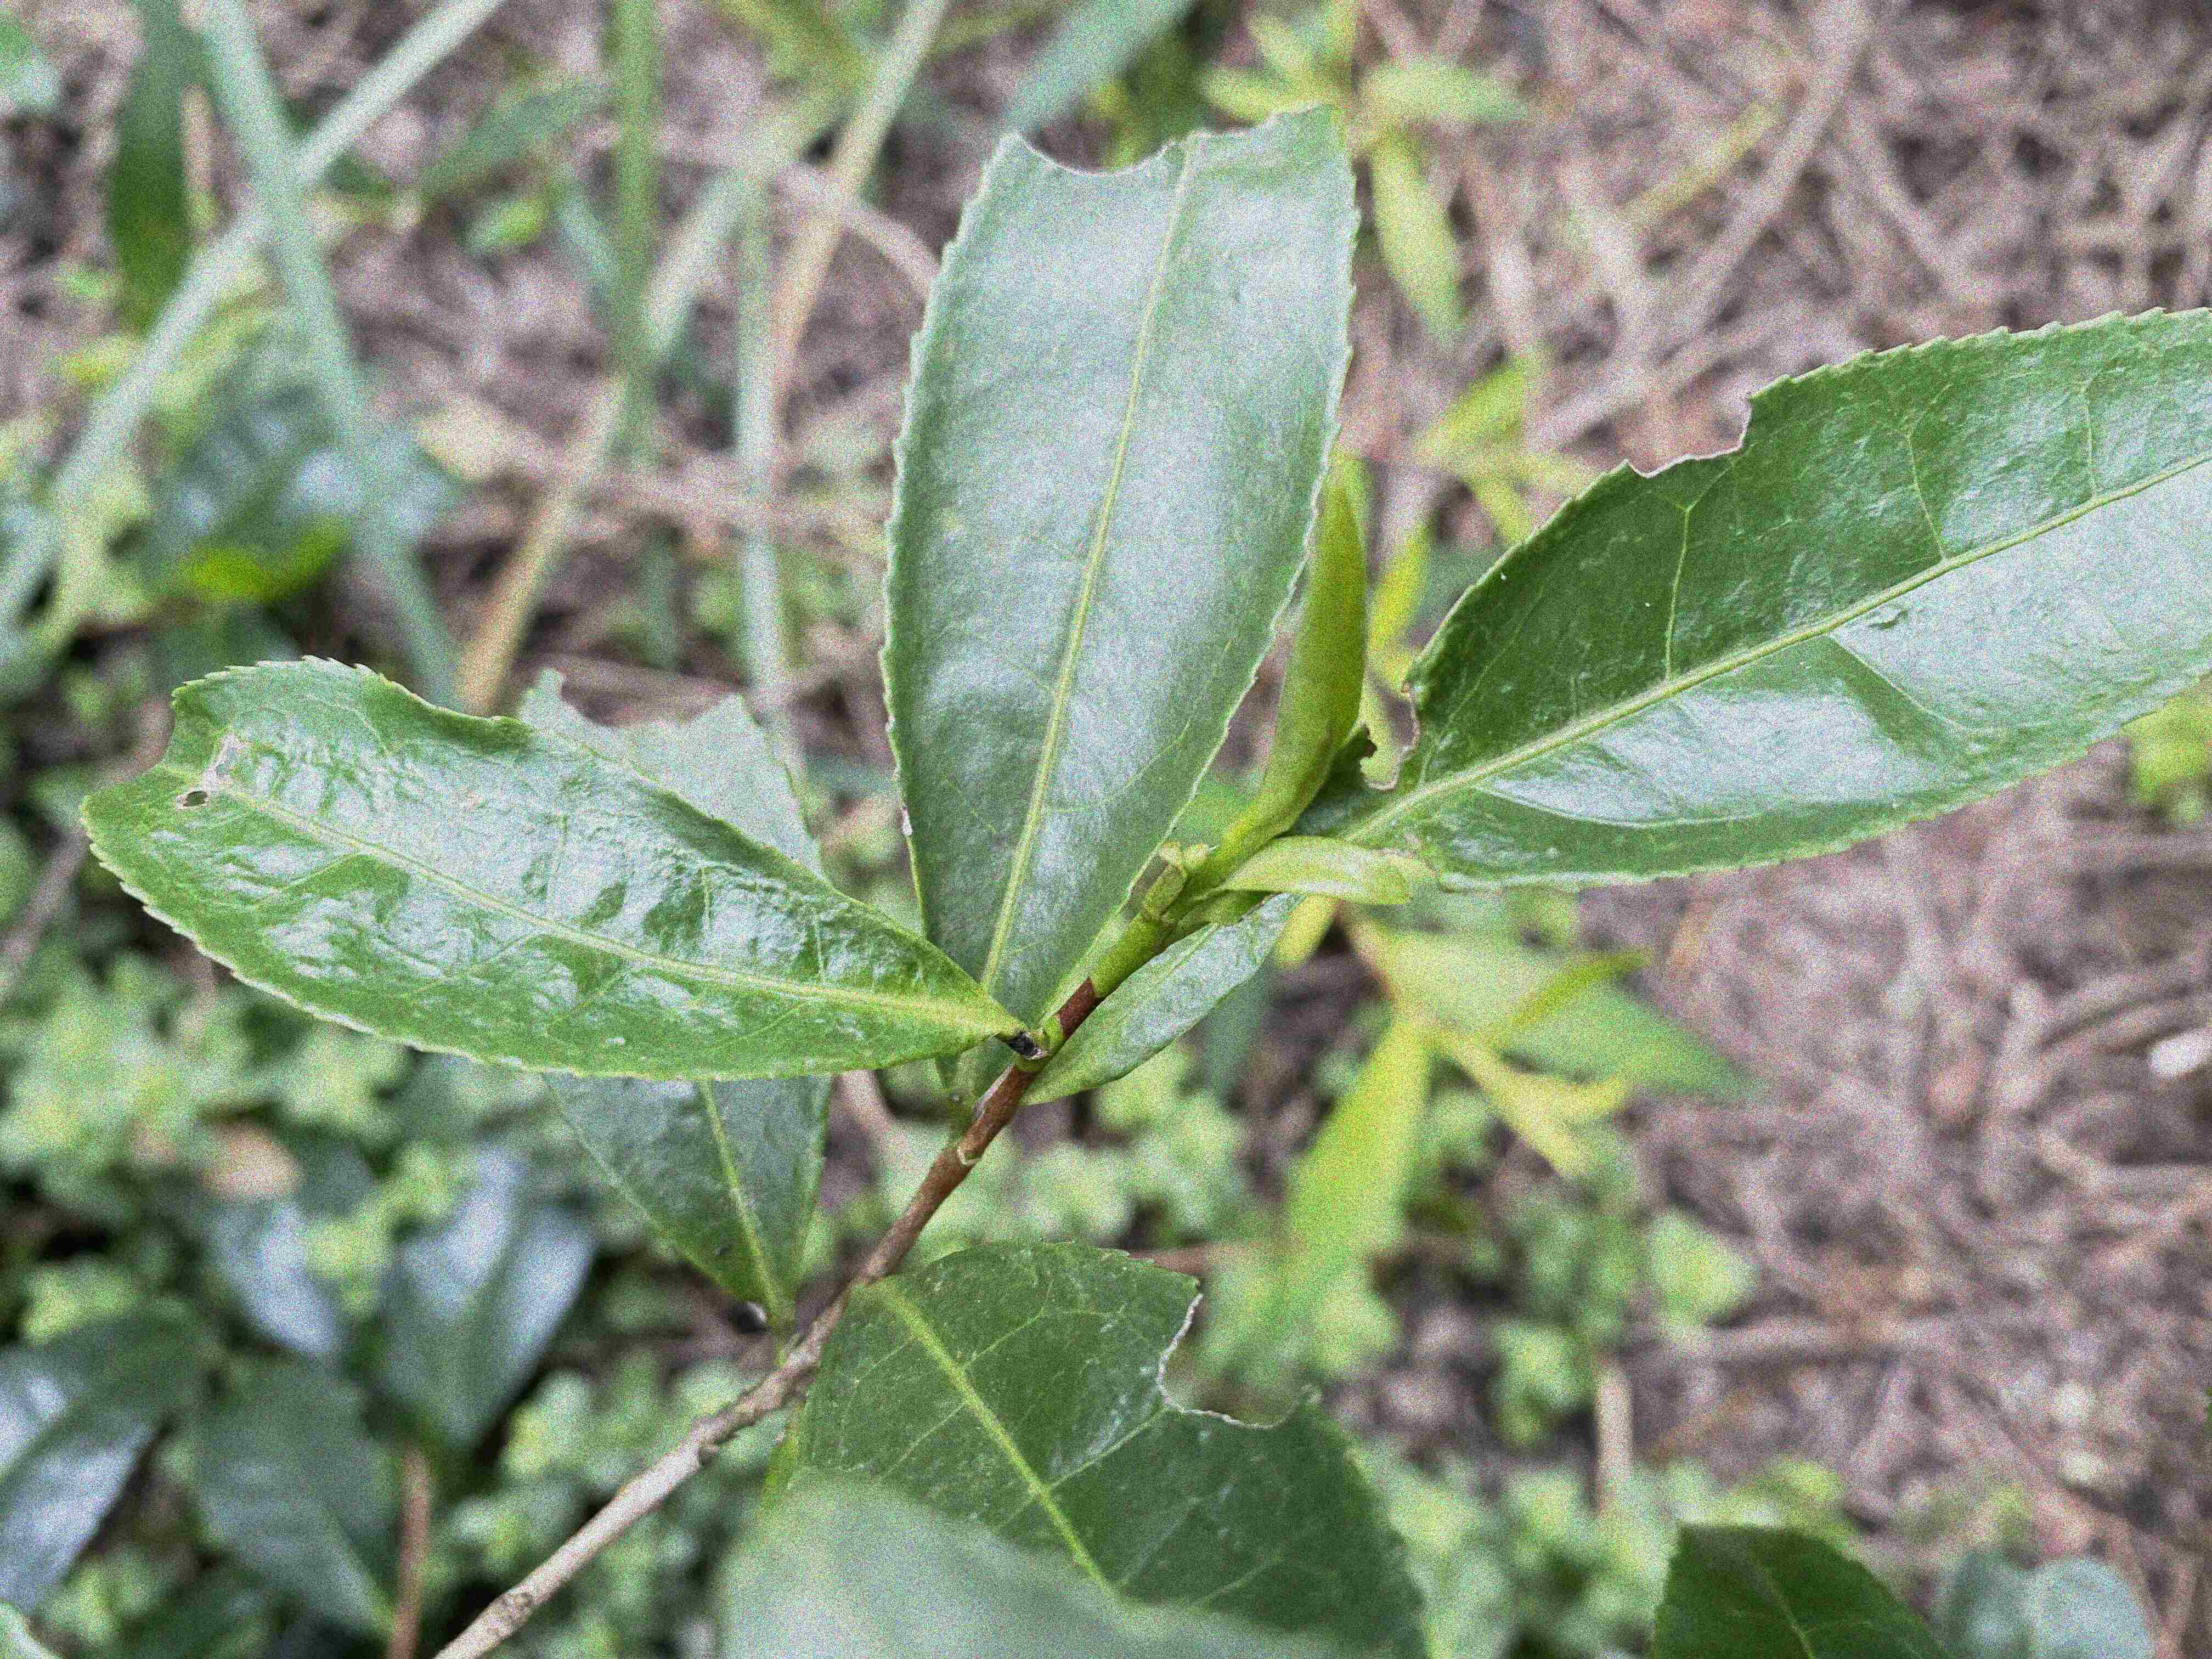chihuo_high: (1298, 307, 2210, 892)
chihuo_low: (878, 98, 1362, 1025), (77, 655, 1001, 1086), (791, 1237, 1444, 1657)
